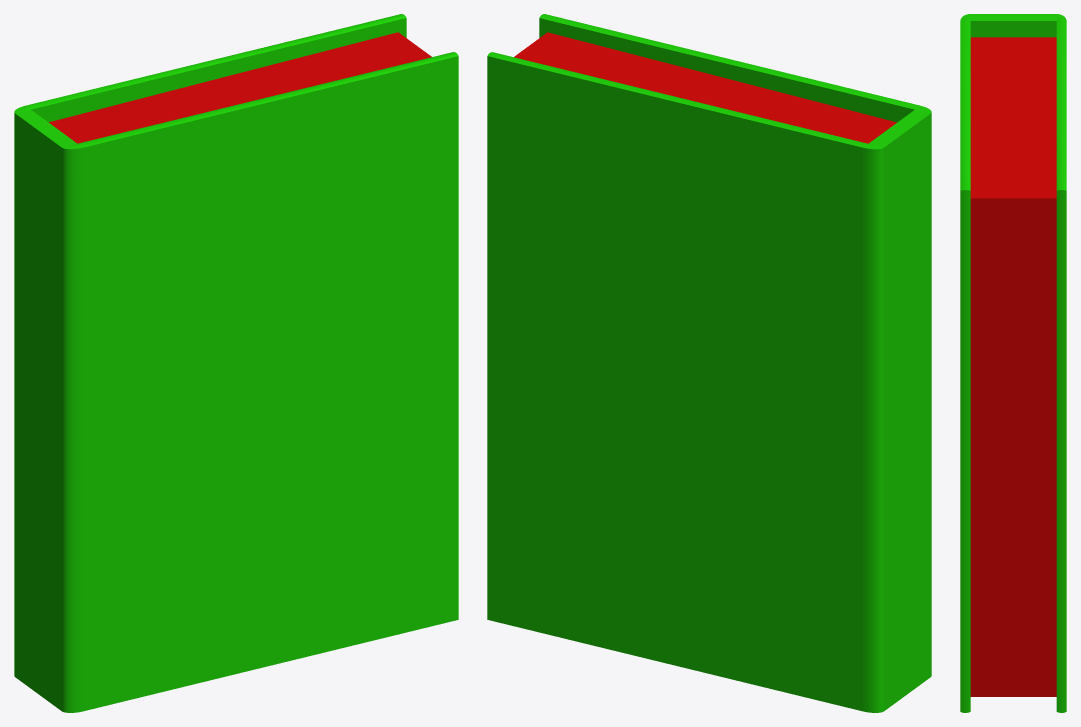
File: largebook.fbx
3 views of the same model, side by side, from view 1: azimuth 30°, elevation 25°; view 2: azimuth 150°, elevation 25°; view 3: azimuth 270°, elevation 25° (orthographic). The views are drawn at different scales.
Parts seen in each view (by area): view 1: Cube.039; view 2: Cube.039; view 3: Cube.039.
Part boxes in pixels (box(x1,y1,x2,y2)): Cube.039: box(14, 14, 458, 712); Cube.039: box(487, 14, 931, 712); Cube.039: box(960, 14, 1066, 712).
Size of the model in its own units: 209 by 288 by 53.01.
